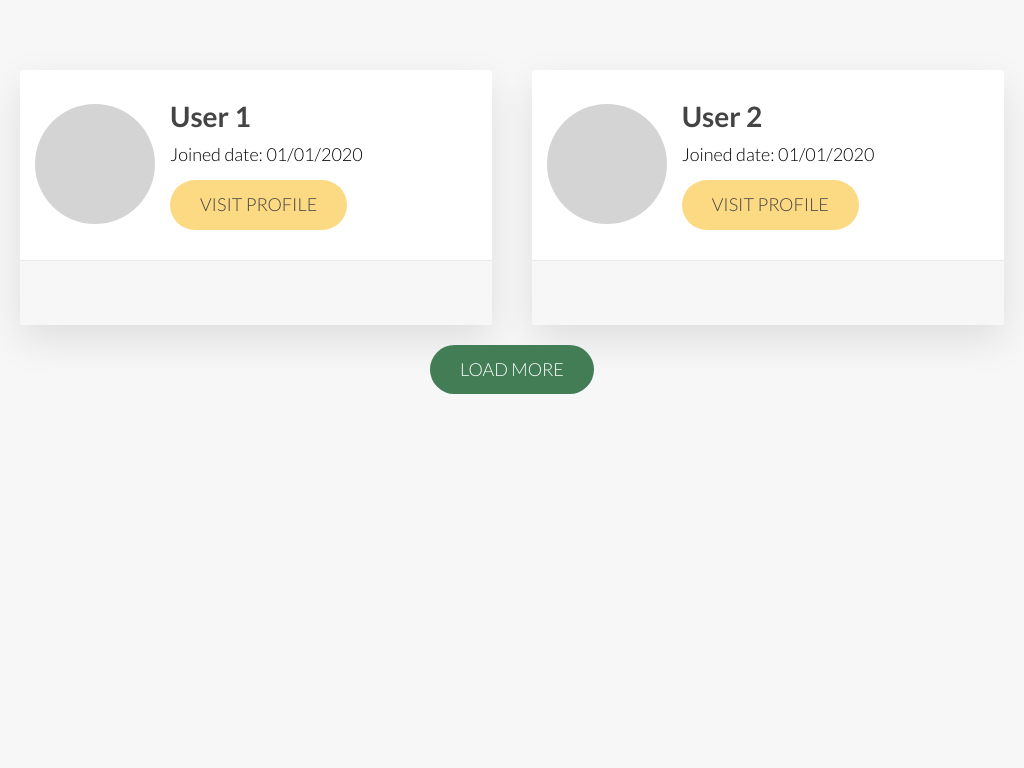
Scenario: AllUsers load more › shows Load more only while there is a next page, appends it and hides at the end
Step 1. Click the button "Load more" → [512, 370], box top-left (430, 345), bottom-right (594, 394)
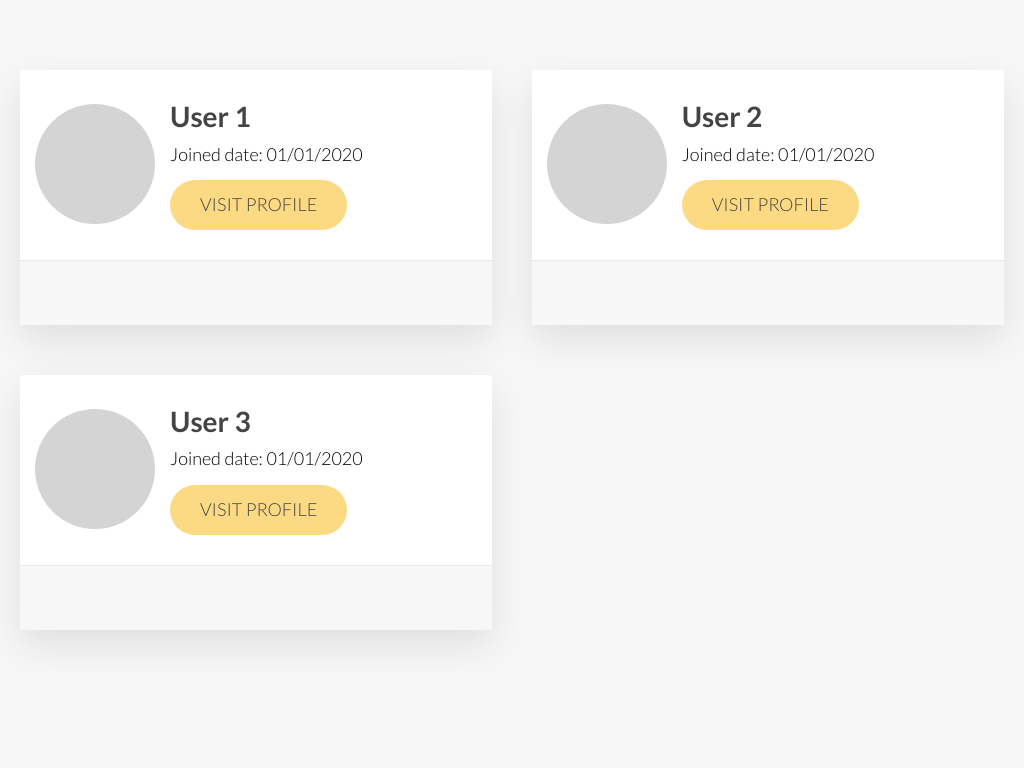
Result: the number of elements with class "card-user" is 3 at top-left (20, 70), bottom-right (492, 325); top-left (532, 70), bottom-right (1004, 325); top-left (20, 375), bottom-right (492, 630)
Result: the button "Load more" is gone
